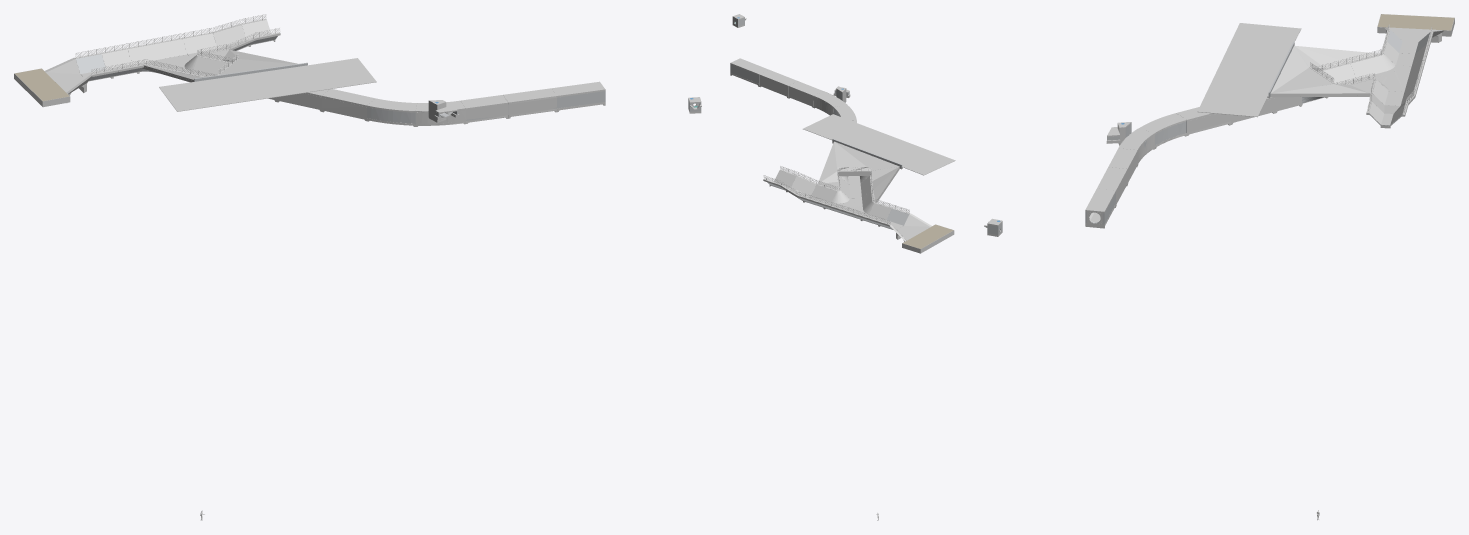
Rendered from 500125-CSSP001-000-XX-MD-BM-000023.glb.
3 renders of one model, left to right at view 1: azimuth 30°, elevation 25°; view 2: azimuth 150°, elevation 25°; view 3: azimuth 270°, elevation 25°, orthographic. The views are drawn at different scales.
Parts seen in each view (by area): view 1: 500125-CSSP001-000-XX-MD-BM-000023#OTR002, 500125-CSSP001-000-XX-MD-BM-000023#CAN002, 500125-CSSP001-000-XX-MD-BM-000023#GAV001; view 2: 500125-CSSP001-000-XX-MD-BM-000023#OTR002, 500125-CSSP001-000-XX-MD-BM-000023#CAN002, 500125-CSSP001-000-XX-MD-BM-000023#GAV001, 500125-CSSP001-000-XX-MD-BM-000023#CAN001; view 3: 500125-CSSP001-000-XX-MD-BM-000023#OTR002, 500125-CSSP001-000-XX-MD-BM-000023#CAN002, 500125-CSSP001-000-XX-MD-BM-000023#GAV001.
Part boxes in pixels (x1,y1,x2,y2): 500125-CSSP001-000-XX-MD-BM-000023#OTR002: (14,14,605,126); 500125-CSSP001-000-XX-MD-BM-000023#CAN002: (189,36,701,123); 500125-CSSP001-000-XX-MD-BM-000023#GAV001: (14,68,69,101); 500125-CSSP001-000-XX-MD-BM-000023#OTR002: (730,58,955,253); 500125-CSSP001-000-XX-MD-BM-000023#CAN002: (730,17,902,219); 500125-CSSP001-000-XX-MD-BM-000023#GAV001: (903,224,953,248); 500125-CSSP001-000-XX-MD-BM-000023#CAN001: (859,209,909,229); 500125-CSSP001-000-XX-MD-BM-000023#OTR002: (1085,14,1454,228); 500125-CSSP001-000-XX-MD-BM-000023#CAN002: (987,41,1404,234); 500125-CSSP001-000-XX-MD-BM-000023#GAV001: (1377,14,1454,30).
Bounding box in the file's own units: 91.2 × 84.08 × 76.46.
